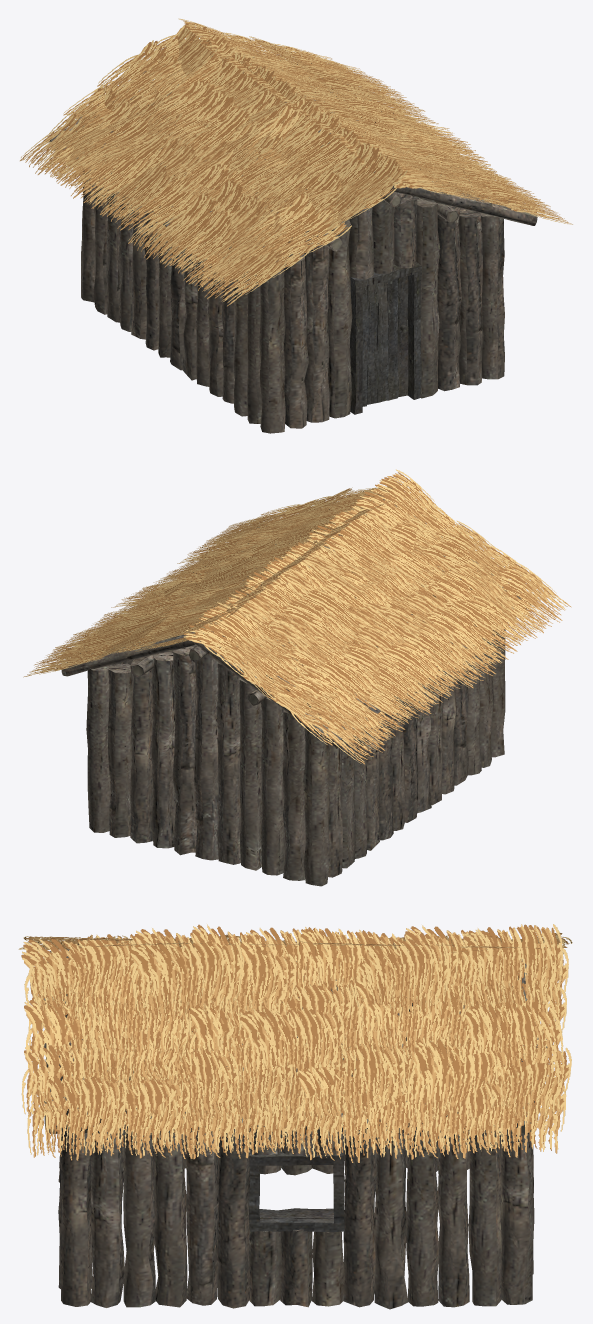
Rendered from hut.fbx.
The picture shows the model from 3 angles, top to bottom: view 1: azimuth 30°, elevation 25°; view 2: azimuth 150°, elevation 25°; view 3: azimuth 270°, elevation 25°; orthographic projection. The views are drawn at different scales.
Parts seen in each view (by area): view 1: deadWood; view 2: deadWood; view 3: deadWood.
Part boxes in pixels (x1,y1,x2,y2): deadWood: (20,18,572,433); deadWood: (23,469,571,886); deadWood: (18,924,572,1309).
Bounding box in the file's own units: 1425 × 945 × 1557.
Materials: 4 (4 with a texture image).
